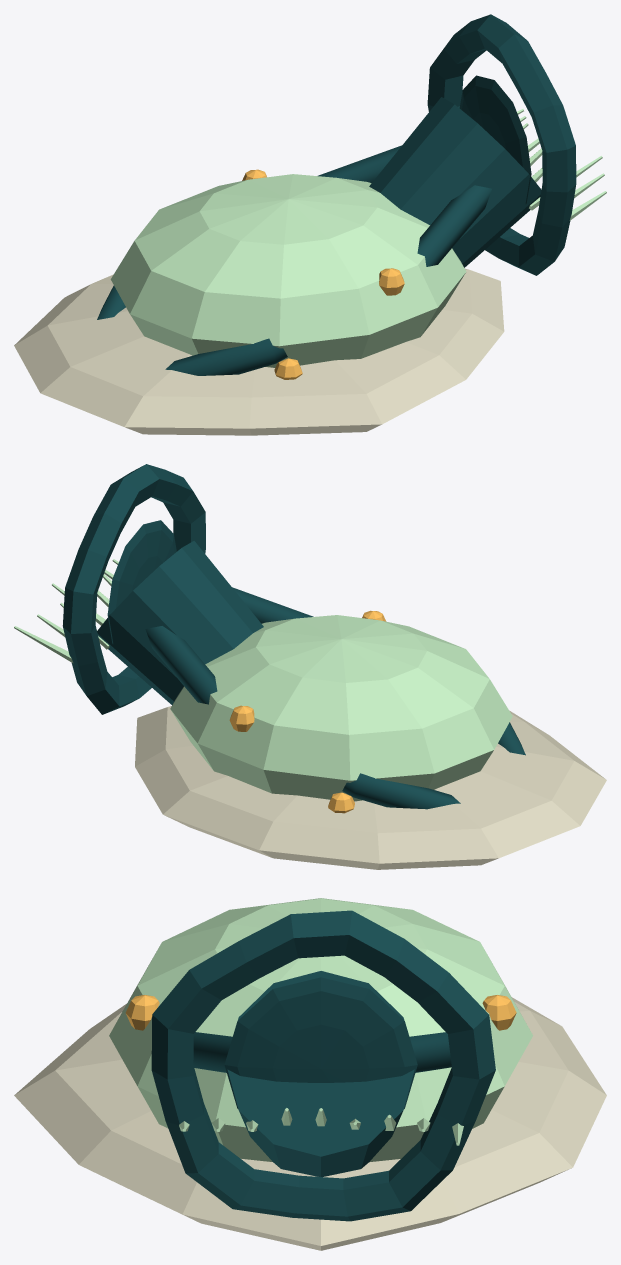
File: node_building_intake_a.obj
The picture shows the model from 3 angles, top to bottom: view 1: azimuth 30°, elevation 25°; view 2: azimuth 150°, elevation 25°; view 3: azimuth 270°, elevation 25°; orthographic projection. The views are drawn at different scales.
Visible parts, largest first — view 1: muscular_chamber, rooted_mounting_pad, outward_intake_neck, outward_intake_living_rim, return_vein_-1, outward_intake_hollow_throat, return_vein_1, signal_bead_-1_2; view 2: muscular_chamber, rooted_mounting_pad, outward_intake_neck, outward_intake_living_rim, return_vein_1, outward_intake_hollow_throat, return_vein_-1; view 3: rooted_mounting_pad, outward_intake_living_rim, muscular_chamber, outward_intake_hollow_throat, outward_intake_neck, return_vein_1, return_vein_-1, signal_bead_-1_2, signal_bead_1_2.
Boxes of the visible parts, x1,y1,x2,y2 form: muscular_chamber: [110, 174, 466, 367]; rooted_mounting_pad: [14, 268, 504, 435]; outward_intake_neck: [369, 97, 541, 267]; outward_intake_living_rim: [427, 14, 576, 275]; return_vein_-1: [165, 185, 491, 375]; outward_intake_hollow_throat: [459, 75, 531, 204]; return_vein_1: [97, 145, 401, 319]; signal_bead_-1_2: [379, 268, 404, 295]; muscular_chamber: [170, 615, 512, 801]; rooted_mounting_pad: [135, 706, 606, 869]; outward_intake_neck: [97, 541, 263, 704]; outward_intake_living_rim: [62, 464, 205, 714]; return_vein_1: [145, 626, 460, 809]; outward_intake_hollow_throat: [107, 520, 176, 643]; return_vein_-1: [232, 587, 525, 755]; rooted_mounting_pad: [14, 997, 606, 1250]; outward_intake_living_rim: [151, 910, 495, 1221]; muscular_chamber: [109, 898, 532, 1162]; outward_intake_hollow_throat: [224, 977, 417, 1108]; outward_intake_neck: [227, 971, 414, 1176]; return_vein_1: [409, 1032, 451, 1072]; return_vein_-1: [193, 1032, 232, 1072]; signal_bead_-1_2: [125, 995, 159, 1030]; signal_bead_1_2: [482, 995, 516, 1030].
Size of the model in its own units: 2.94 by 1.55 by 2.15.
